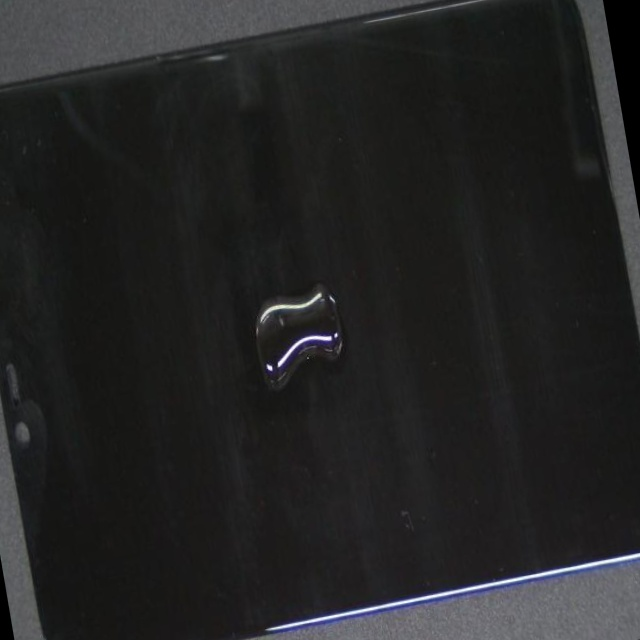oil: (89, 85, 438, 520)
